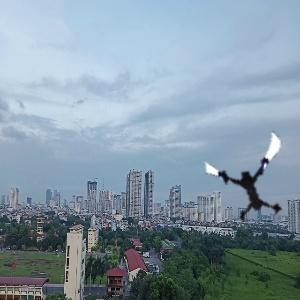drone: (202, 135, 295, 228)
